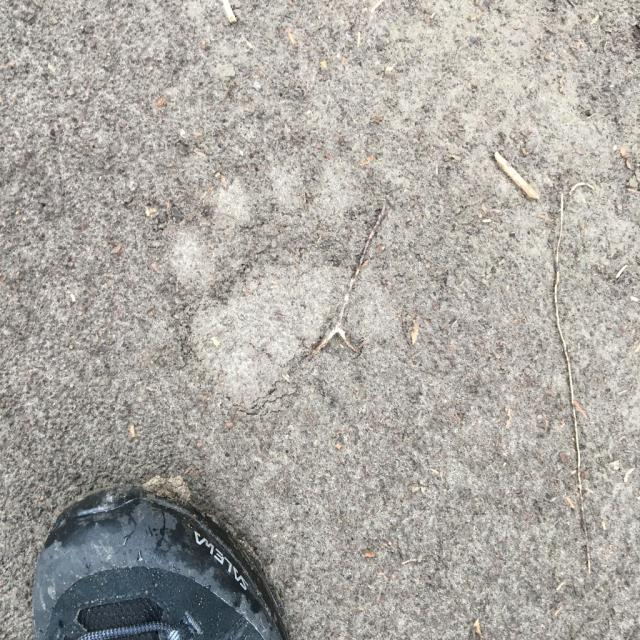bear: (170, 155, 401, 364)
